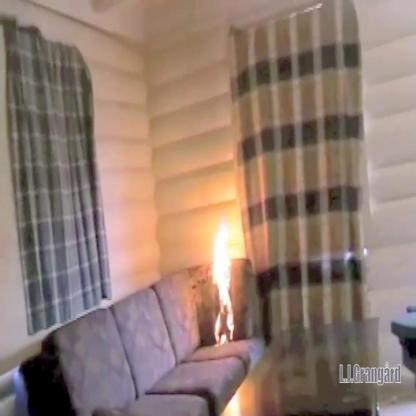fire: (210, 217, 237, 349)
